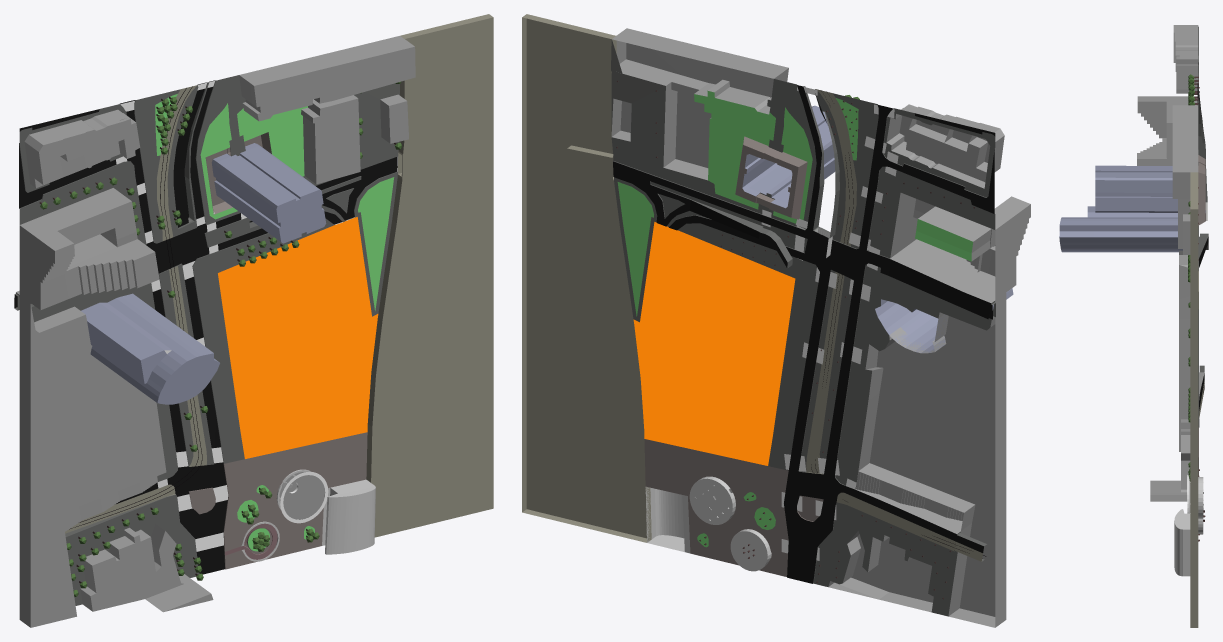
File: place de milan.glb
3 views of the same model, side by side, from view 1: azimuth 30°, elevation 25°; view 2: azimuth 150°, elevation 25°; view 3: azimuth 270°, elevation 25° (orthographic). The views are drawn at different scales.
Parts seen in each view (by area): view 1: quartier, polygone_implantation, Hall_Gare; view 2: quartier, polygone_implantation, Hall_Gare; view 3: quartier, Hall_Gare.
Boxes of the visible parts, x1,y1,x2,y2 form: quartier: (14, 14, 493, 627); polygone_implantation: (218, 217, 378, 458); Hall_Gare: (322, 479, 375, 554); quartier: (522, 14, 1030, 627); polygone_implantation: (633, 222, 795, 465); Hall_Gare: (645, 487, 690, 553); quartier: (1059, 25, 1208, 627); Hall_Gare: (1174, 509, 1190, 576).
Bounding box in the file's own units: 342 × 342 × 110.
Materials: 17 (1 with a texture image).
